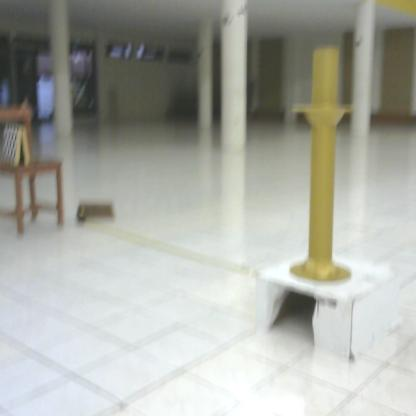pole: (284, 44, 353, 288)
